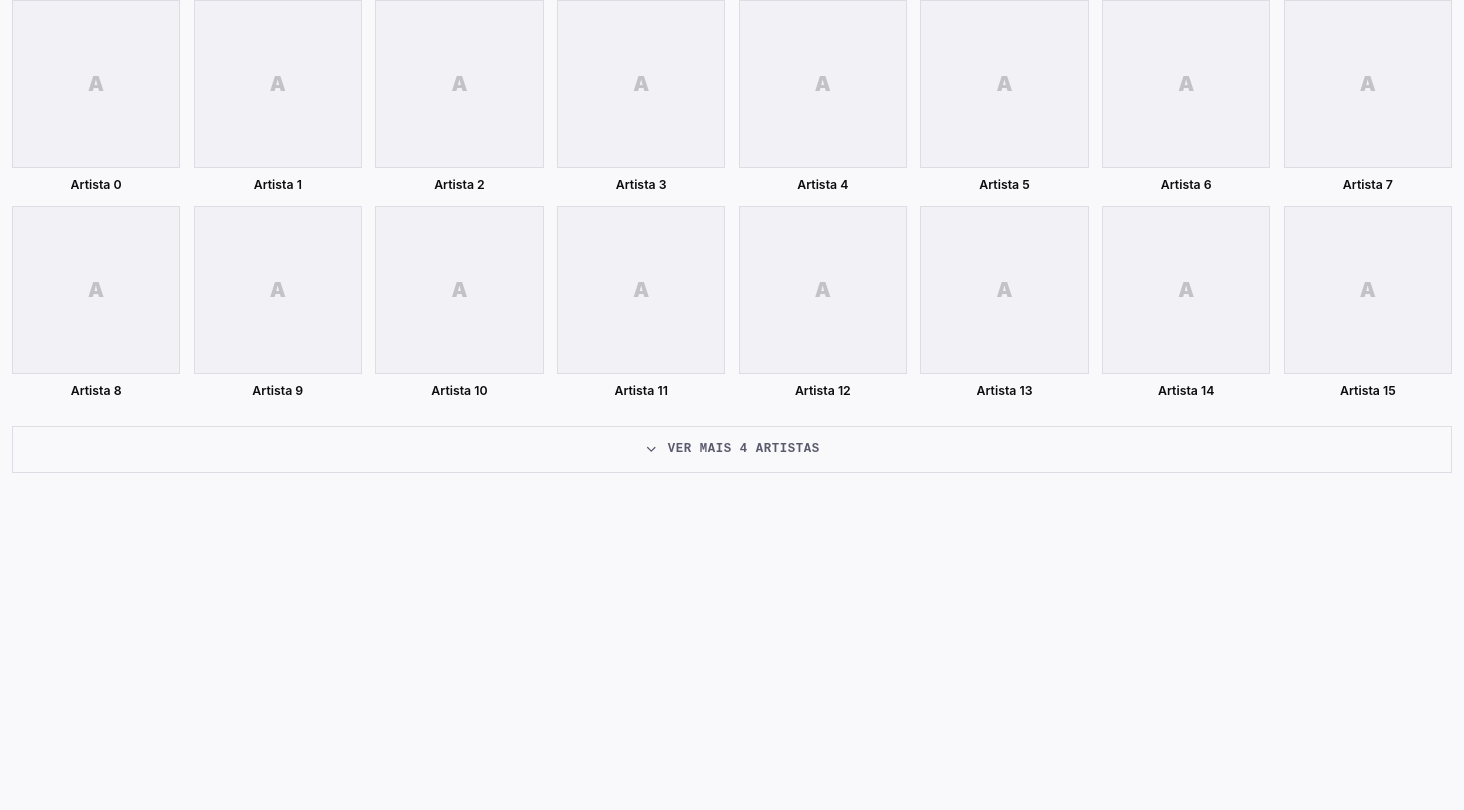
Test: ExpandableArtistGrid › clicar em "Ver mais" mostra todos os artistas e esconde o botão
Click the button "Ver mais 4 artistas" at (732, 449), box 12,426 -> 1452,473
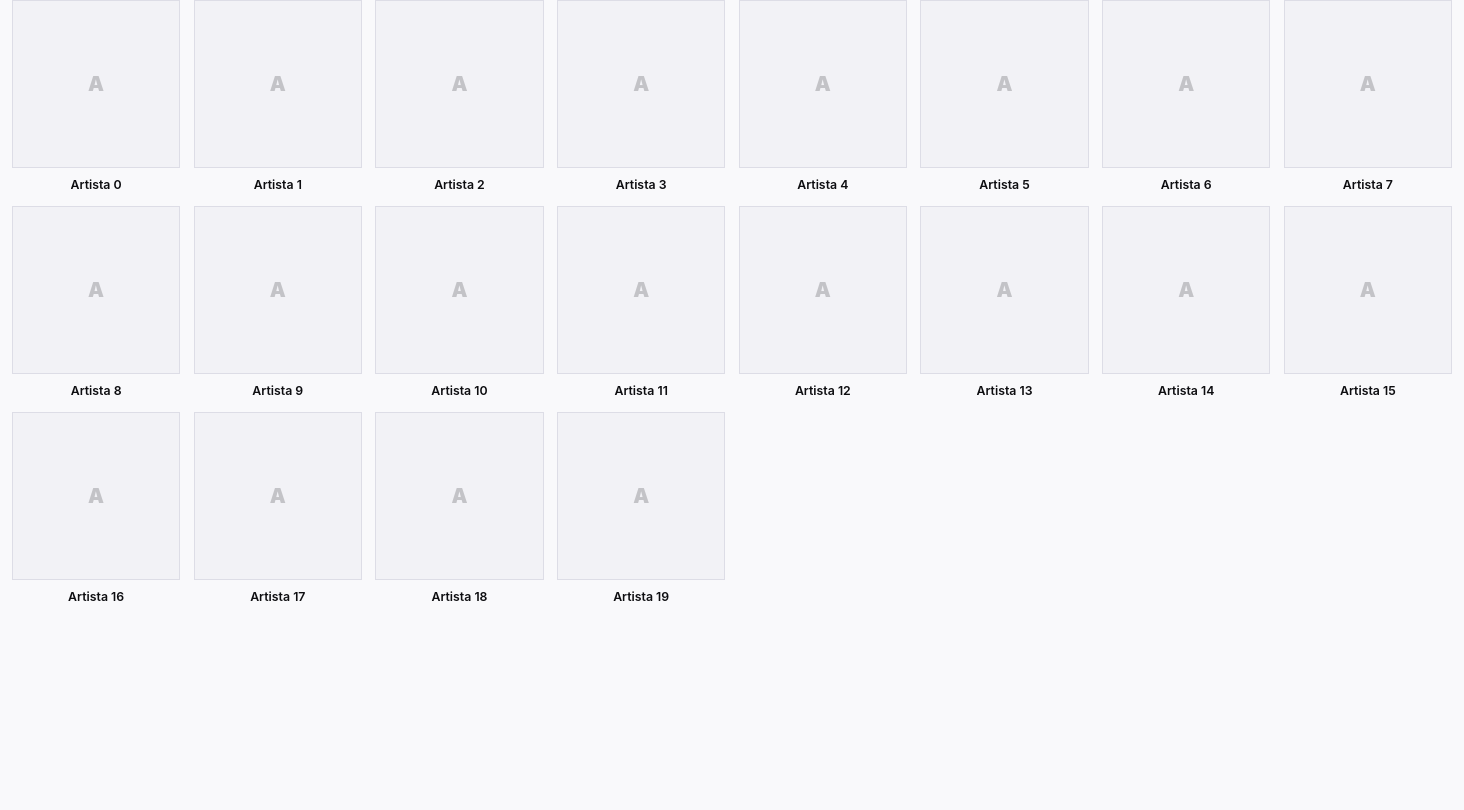
Check: the button "Ver mais" is gone
